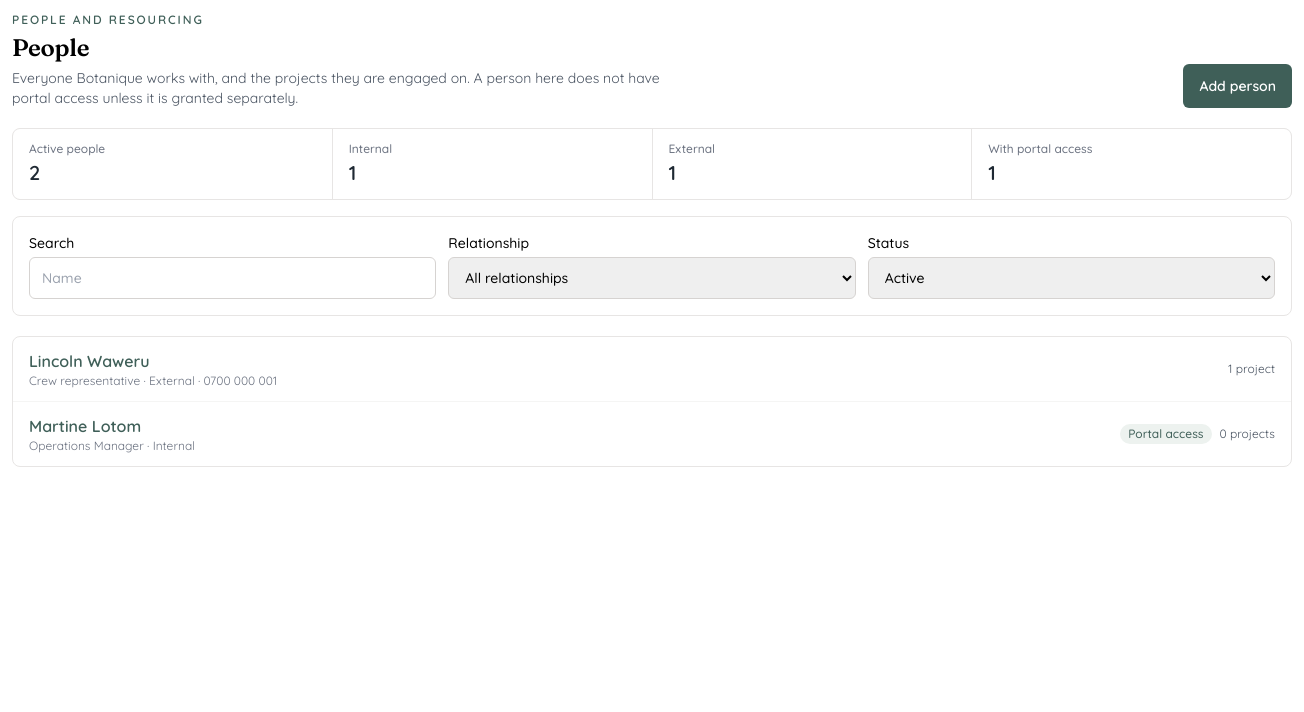
Scenario: People overview › refuses a duplicate canonical name before writing anything
Step 1. Click the button "Add person" → (1238, 86), box 1183,64 -> 1292,108
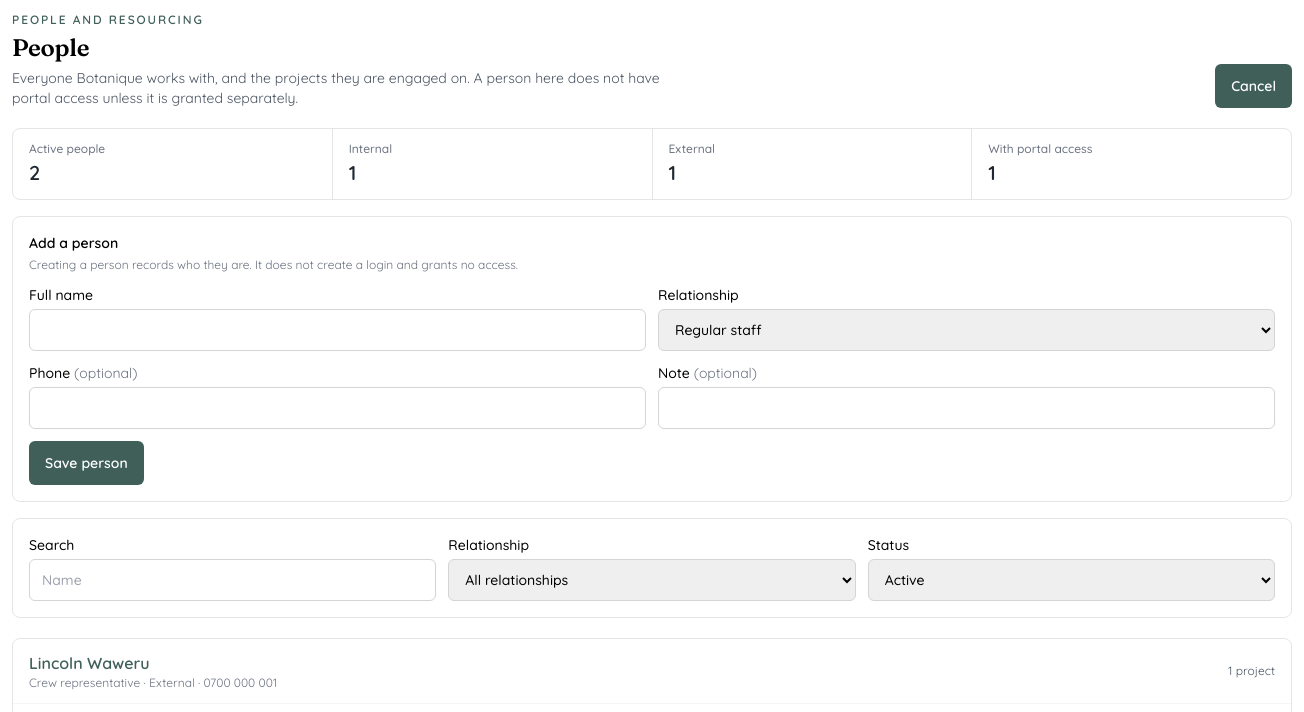
Step 2. Type "  lincoln   waweru " into the field labelled "Full name" → (338, 330), box 29,309 -> 646,351
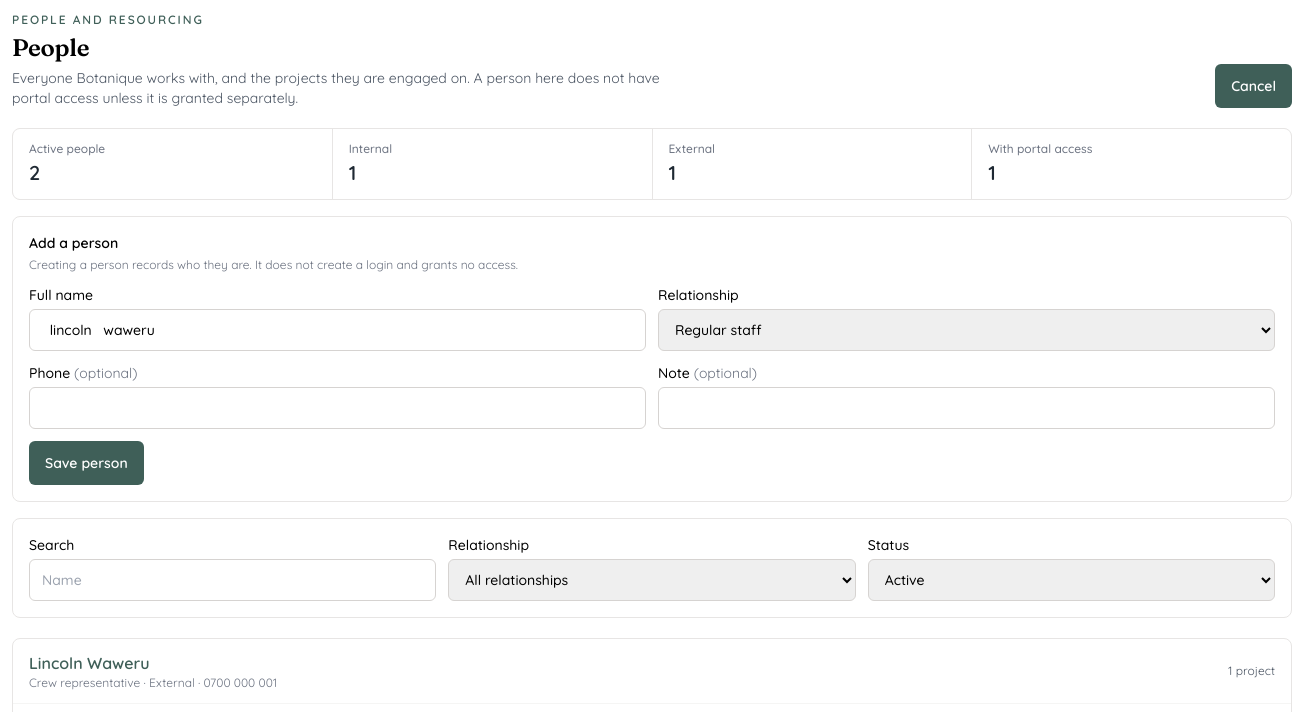
Step 3. Click the button "Save person" → (86, 463), box 29,441 -> 144,485
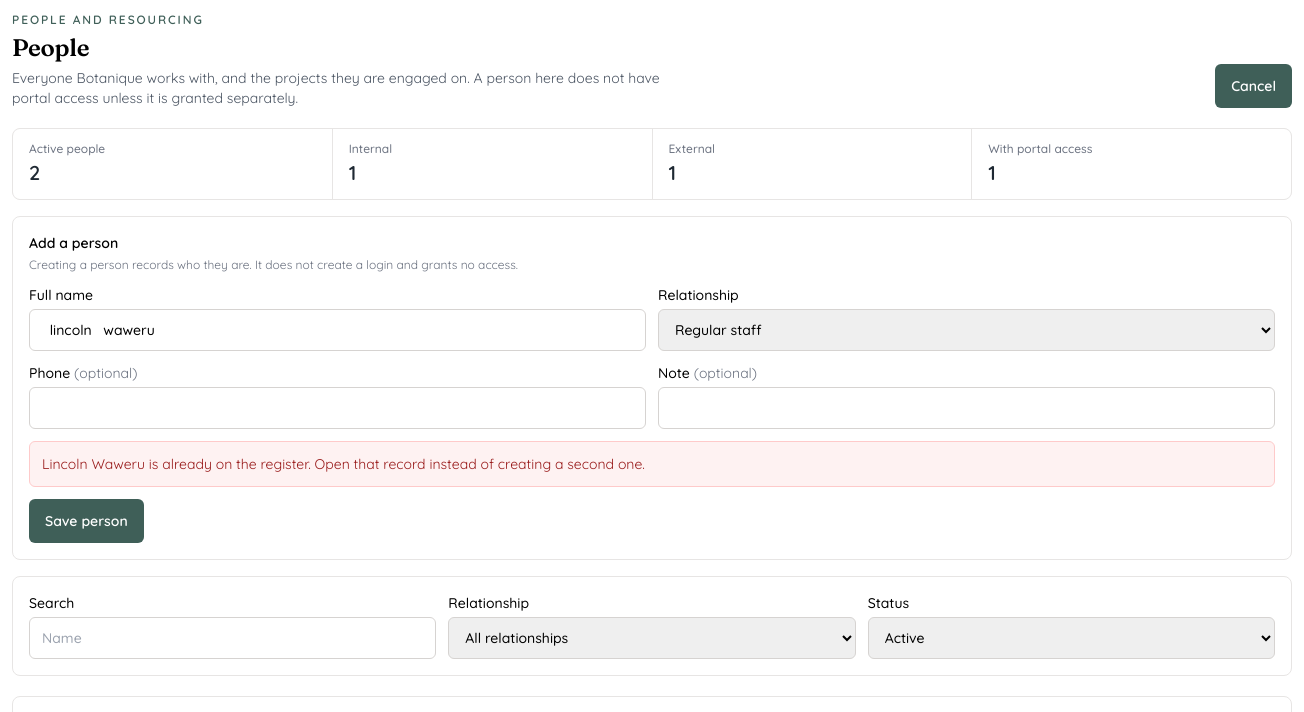
expect the text "already on the register" is shown: met, box 42,455 -> 645,473
